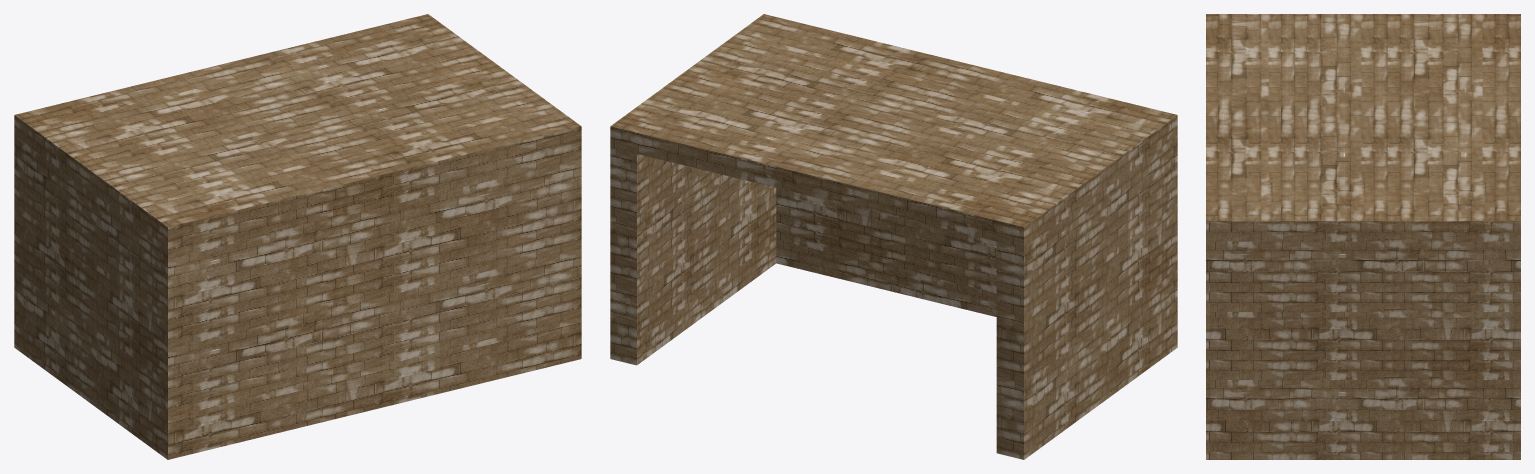
The model's file is 3D_Garage_001.fbx.
3 views of the same model, side by side, from view 1: azimuth 30°, elevation 25°; view 2: azimuth 150°, elevation 25°; view 3: azimuth 270°, elevation 25° (orthographic). The views are drawn at different scales.
Visible parts, largest first — view 1: pCube1; view 2: pCube1; view 3: pCube1.
Boxes of the visible parts, box(x1,y1,x2,y2) form: pCube1: box(14, 14, 581, 459); pCube1: box(610, 14, 1177, 459); pCube1: box(1206, 14, 1520, 459).
Bounding box in the file's own units: 1.76 × 0.9481 × 1.13.
